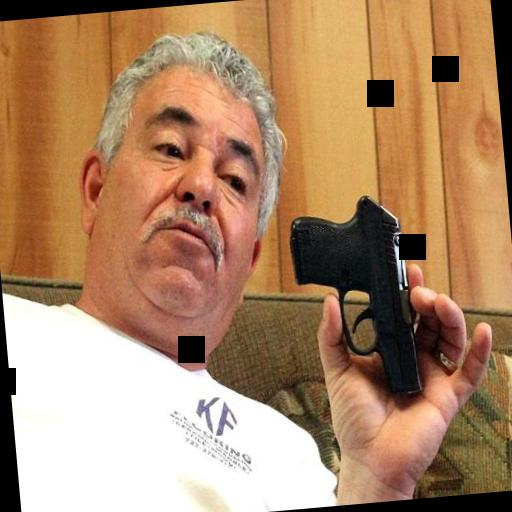Handgun: (278, 183, 424, 407)
